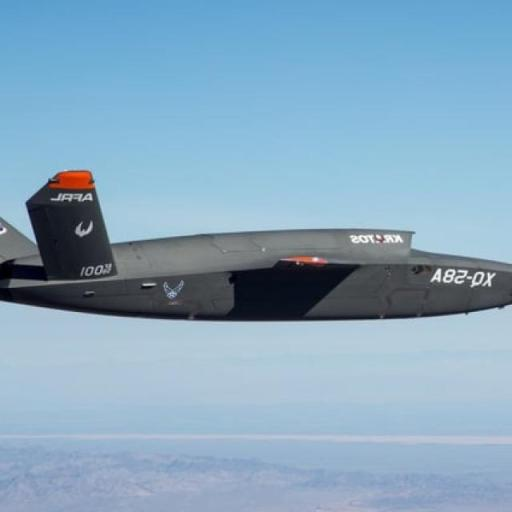uav: (0, 165, 503, 360)
